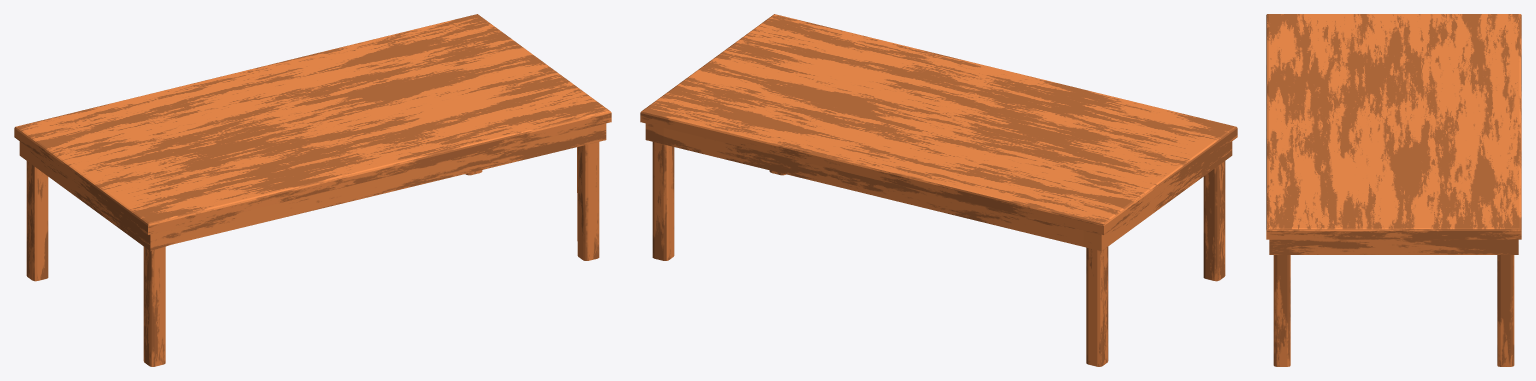
The model's file is table.fbx.
3 views of the same model, side by side, from view 1: azimuth 30°, elevation 25°; view 2: azimuth 150°, elevation 25°; view 3: azimuth 270°, elevation 25° (orthographic). The views are drawn at different scales.
Parts seen in each view (by area): view 1: Plane; view 2: Plane; view 3: Plane.
Part boxes in pixels (x1,y1,x2,y2): Plane: [14, 14, 611, 366]; Plane: [640, 14, 1237, 366]; Plane: [1266, 14, 1521, 366].
Bounding box in the file's own units: 400 × 122 × 200.
Materials: 2 (2 with a texture image).
